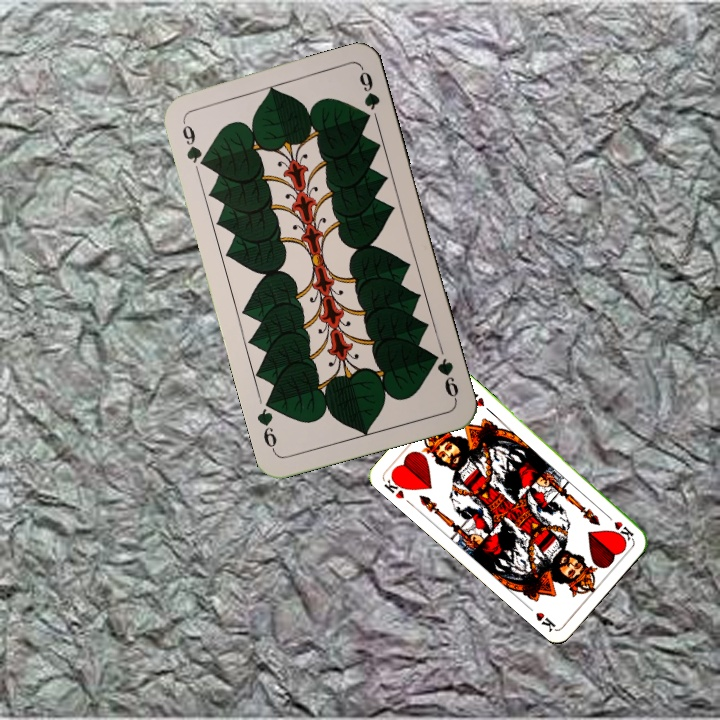G9: (426, 348, 461, 403), (178, 116, 209, 171)
HK: (601, 510, 636, 543), (380, 471, 410, 502)
